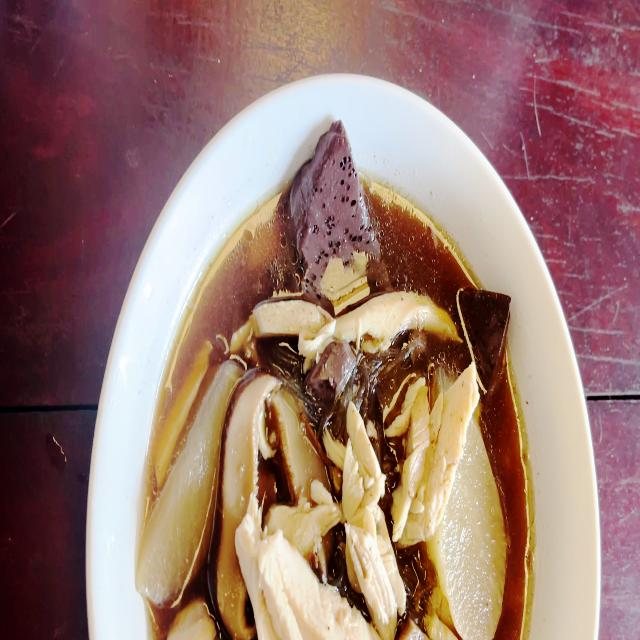boiled_chicken_blood_jelly: (285, 129, 393, 294), (456, 282, 515, 382), (305, 338, 354, 393)
chicken_shredded: (244, 526, 370, 640), (230, 296, 460, 351), (342, 410, 400, 613), (405, 377, 469, 528), (269, 478, 341, 550), (167, 601, 215, 640)
daikon_radish: (133, 357, 232, 608), (451, 464, 502, 628)
noodle: (151, 181, 533, 640)
